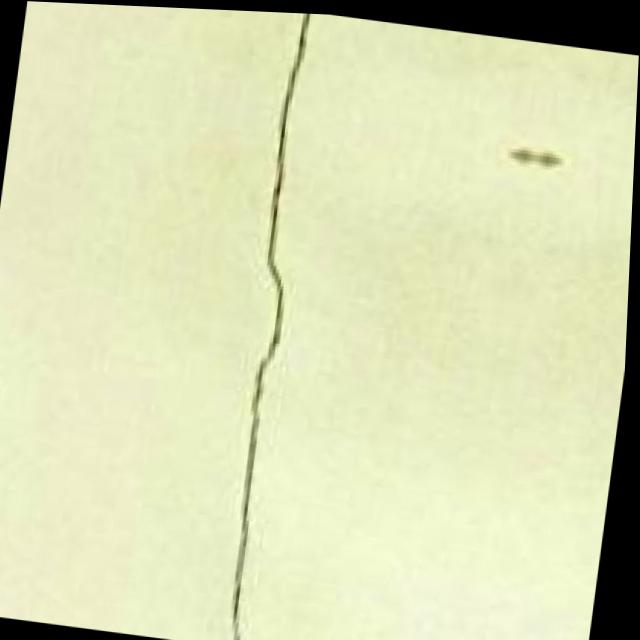Crack: (148, 6, 389, 640)
